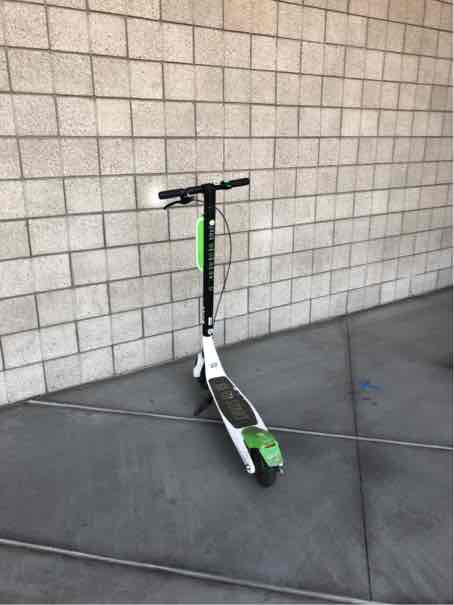scooter: (147, 165, 310, 492)
